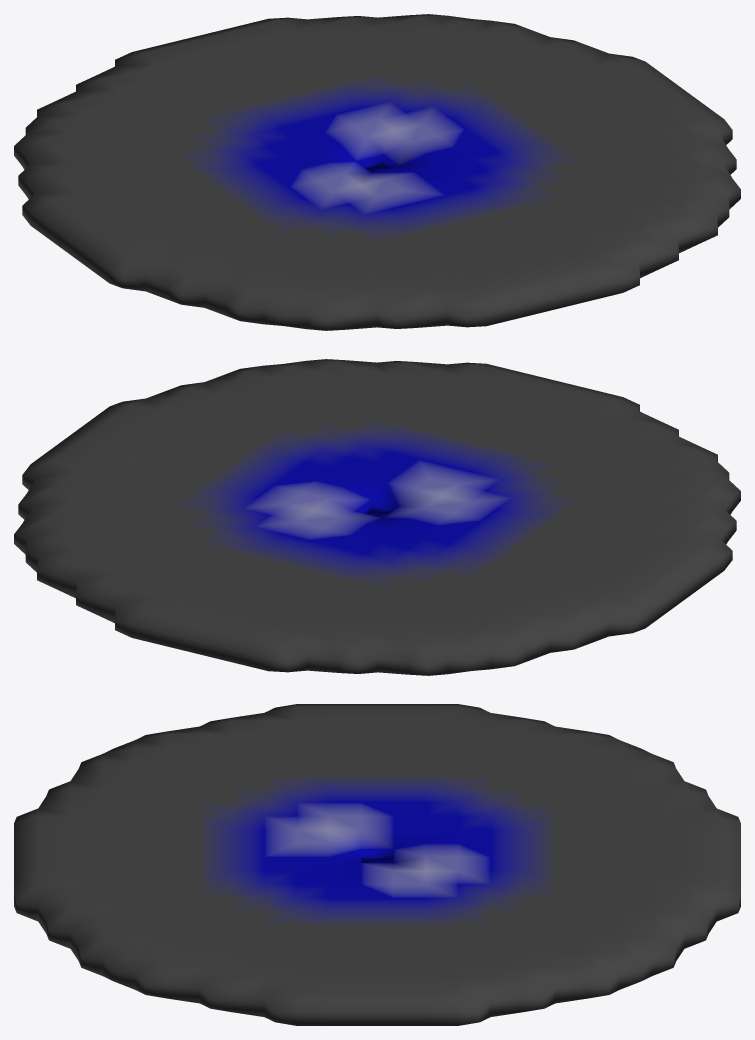
3 views of the same model, one above another, from view 1: azimuth 30°, elevation 25°; view 2: azimuth 150°, elevation 25°; view 3: azimuth 270°, elevation 25° (orthographic). The views are drawn at different scales.
Size of the model in its own units: 1.12 by 0.05 by 1.12.
